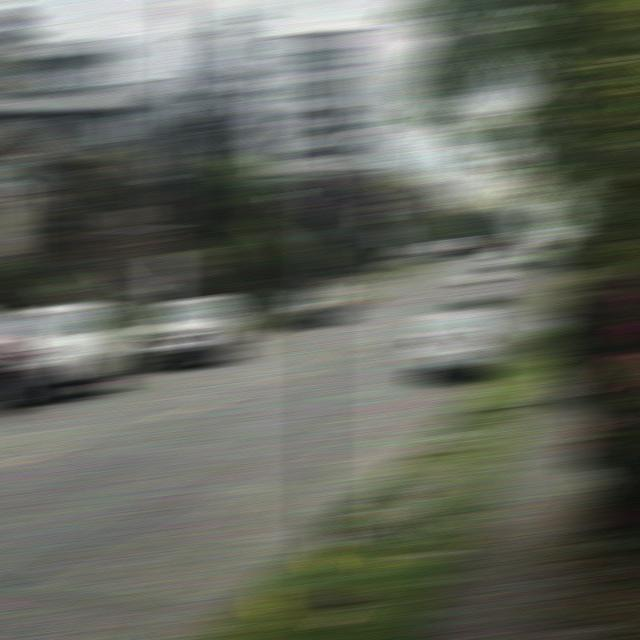speedLimit25: (274, 44, 366, 162)
